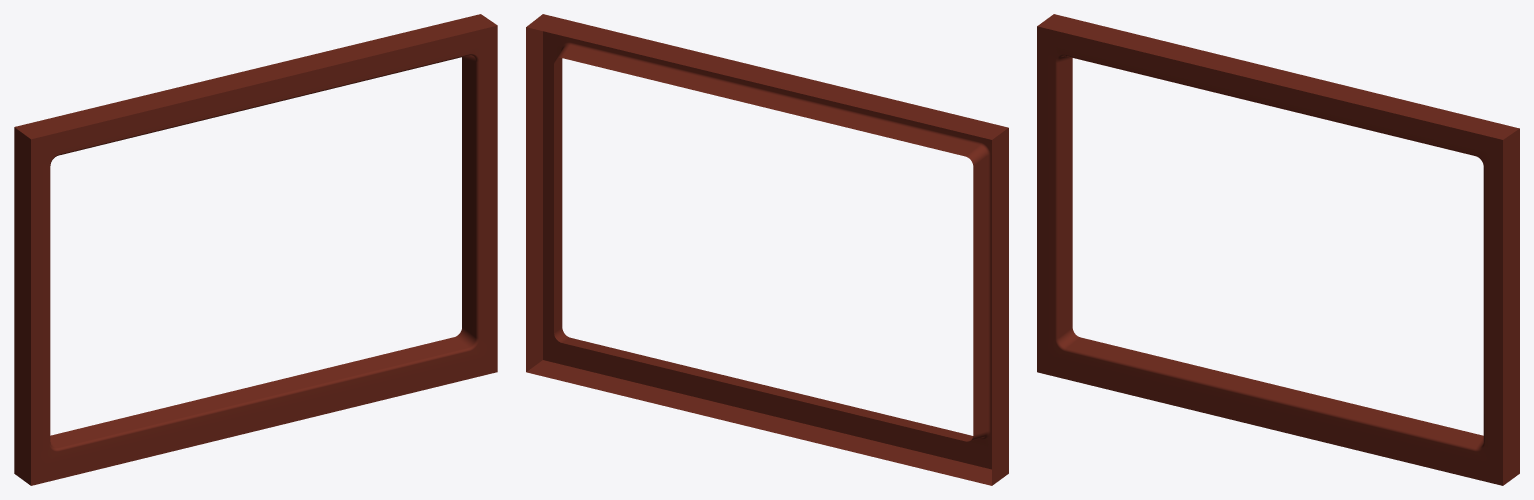
Rendered from SM_ScreenInset.fbx.
The picture shows the model from 3 angles, left to right: view 1: azimuth 30°, elevation 25°; view 2: azimuth 150°, elevation 25°; view 3: azimuth 330°, elevation 25°; orthographic projection.
Visible parts, largest first — view 1: SM_ScreenInset; view 2: SM_ScreenInset; view 3: SM_ScreenInset.
Boxes of the visible parts, x1,y1,x2,y2 form: SM_ScreenInset: [14, 14, 497, 485]; SM_ScreenInset: [526, 14, 1008, 485]; SM_ScreenInset: [1037, 14, 1519, 485].
Size of the model in its own units: 15.27 by 10.84 by 0.9553.
